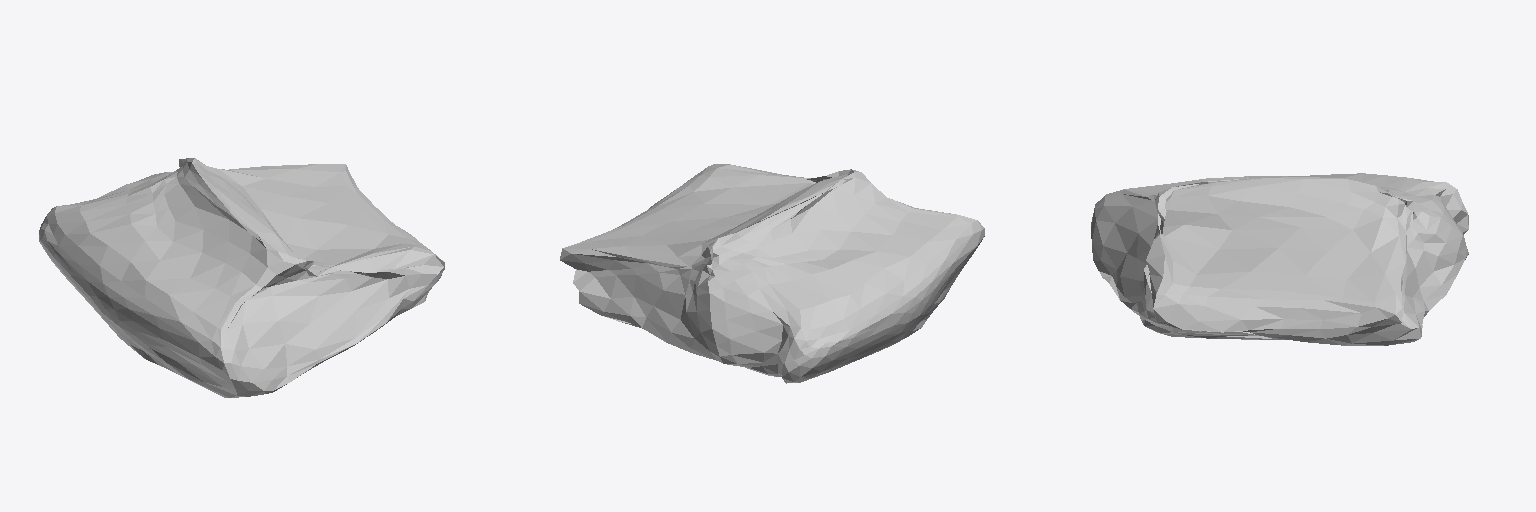
File: video3_111.obj
The picture shows the model from 3 angles: view 1: azimuth 30°, elevation 25°; view 2: azimuth 150°, elevation 25°; view 3: azimuth 270°, elevation 25°; orthographic projection.
Size of the model in its own units: 0.9038 by 0.3788 by 1.